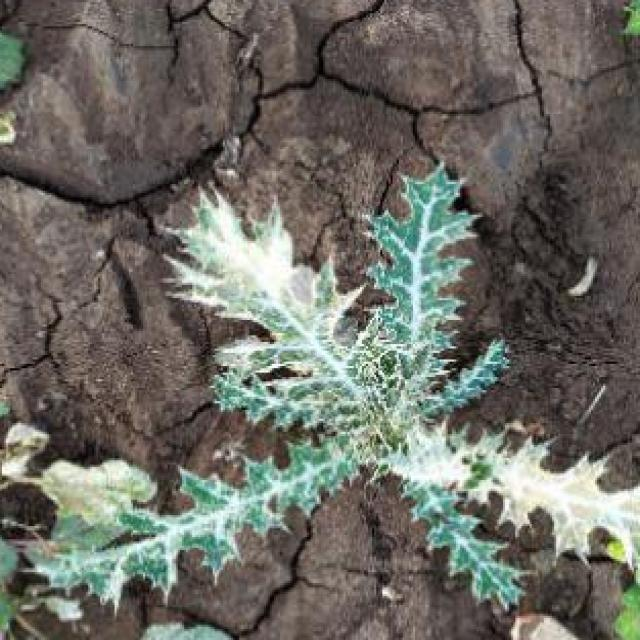weed: (110, 120, 639, 640)
